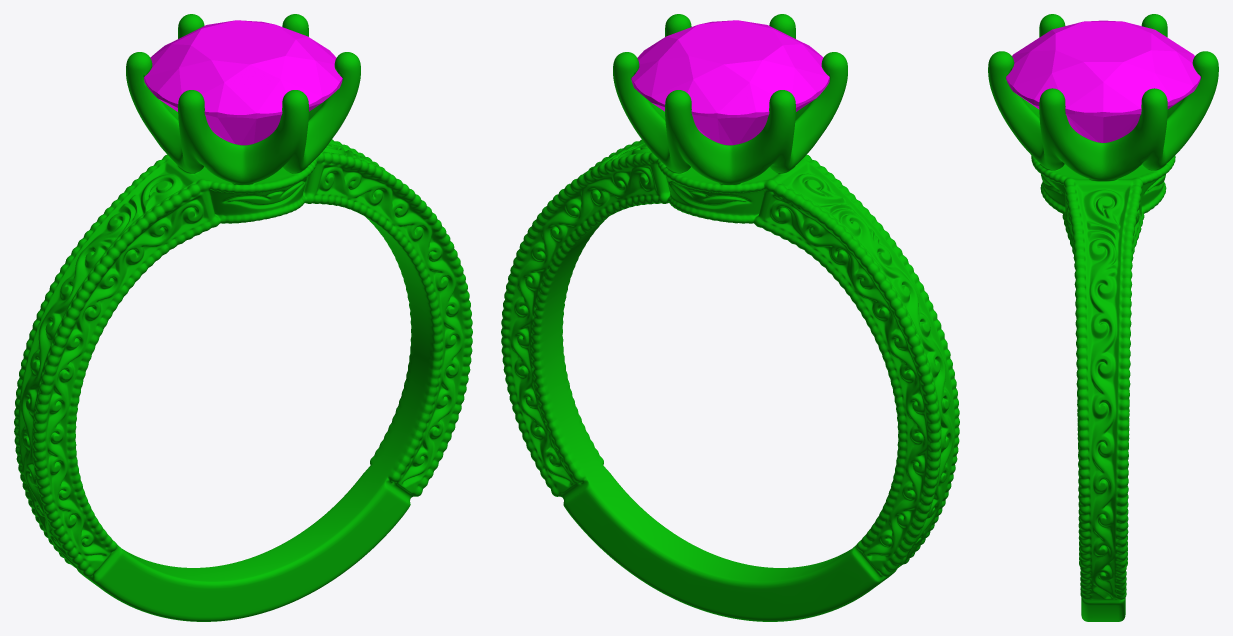
The model's file is BE132_RD_200ct_RENDER.glb.
The picture shows the model from 3 angles, left to right: view 1: azimuth 30°, elevation 25°; view 2: azimuth 150°, elevation 25°; view 3: azimuth 270°, elevation 25°; orthographic projection.
Visible parts, largest first — view 1: Metal 01, CS_Diamond_Round; view 2: Metal 01, CS_Diamond_Round; view 3: Metal 01, CS_Diamond_Round.
Boxes of the visible parts, box(x1,y1,x2,y2) form: Metal 01: box(14, 14, 472, 621); CS_Diamond_Round: box(144, 20, 342, 145); Metal 01: box(501, 14, 959, 621); CS_Diamond_Round: box(631, 20, 829, 145); Metal 01: box(988, 14, 1218, 621); CS_Diamond_Round: box(1006, 20, 1200, 142).
Bounding box in the file's own units: 20.27 × 25.1 × 9.42.
